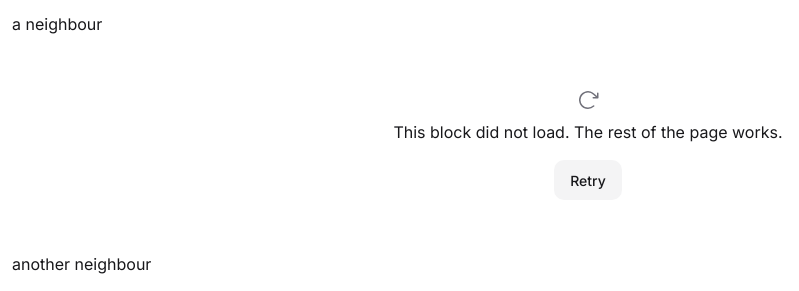
Guard › holds the failure of one block and leaves its neighbours in place, and tries again on the button
Expected: the text "a neighbour" is shown, [12, 14, 102, 34]
Expected: the text "another neighbour" is shown, [12, 254, 151, 274]
Click the button "Retry": coordinates (588, 180) [554, 160, 622, 200]
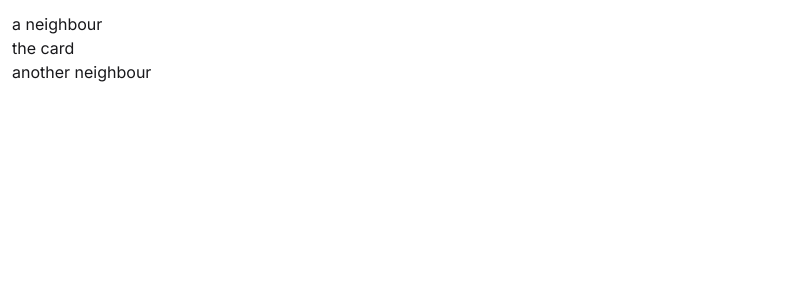
Result: the text "the card" is shown at [12, 38, 74, 58]
Result: the message "This block did not load. The rest of the page works. Retry" is gone
